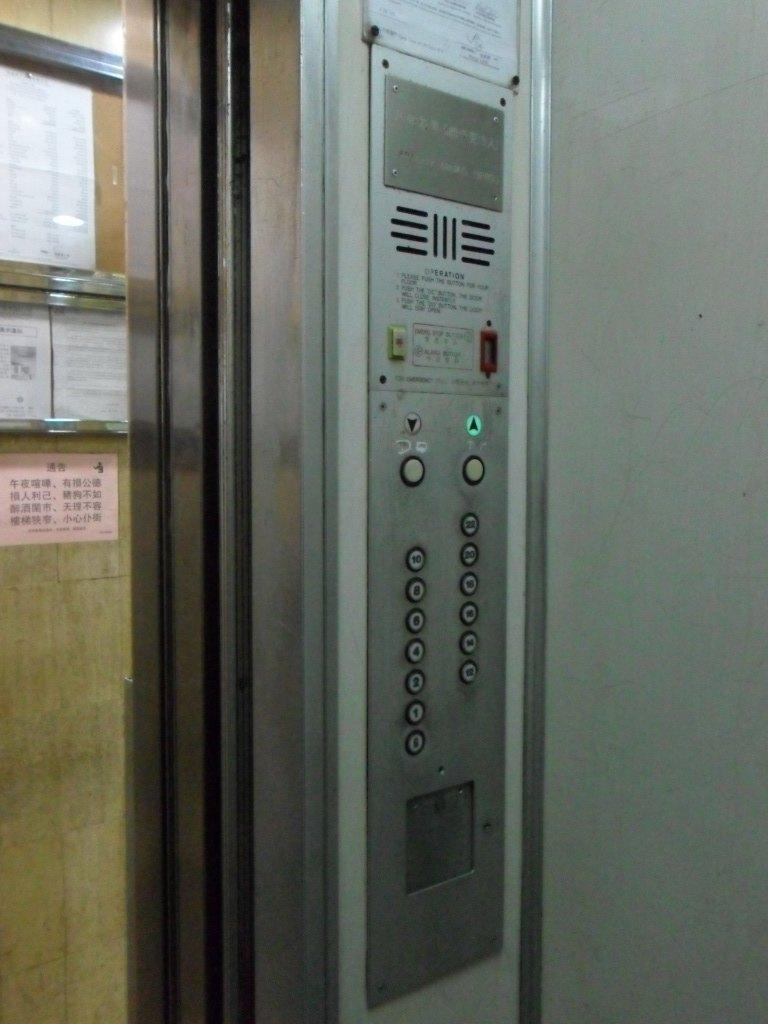1: (403, 698, 425, 724)
10: (404, 545, 425, 572)
14: (457, 629, 477, 654)
16: (458, 600, 477, 626)
18: (458, 570, 477, 595)
2: (404, 668, 424, 695)
20: (458, 540, 478, 566)
22: (459, 512, 477, 535)
4: (403, 636, 425, 664)
6: (403, 604, 423, 631)
8: (404, 575, 425, 602)
blur: (403, 729, 424, 754), (458, 656, 477, 682)
down: (404, 411, 421, 434)
unknown: (397, 455, 424, 487), (460, 454, 484, 485)
up: (464, 413, 481, 436)
